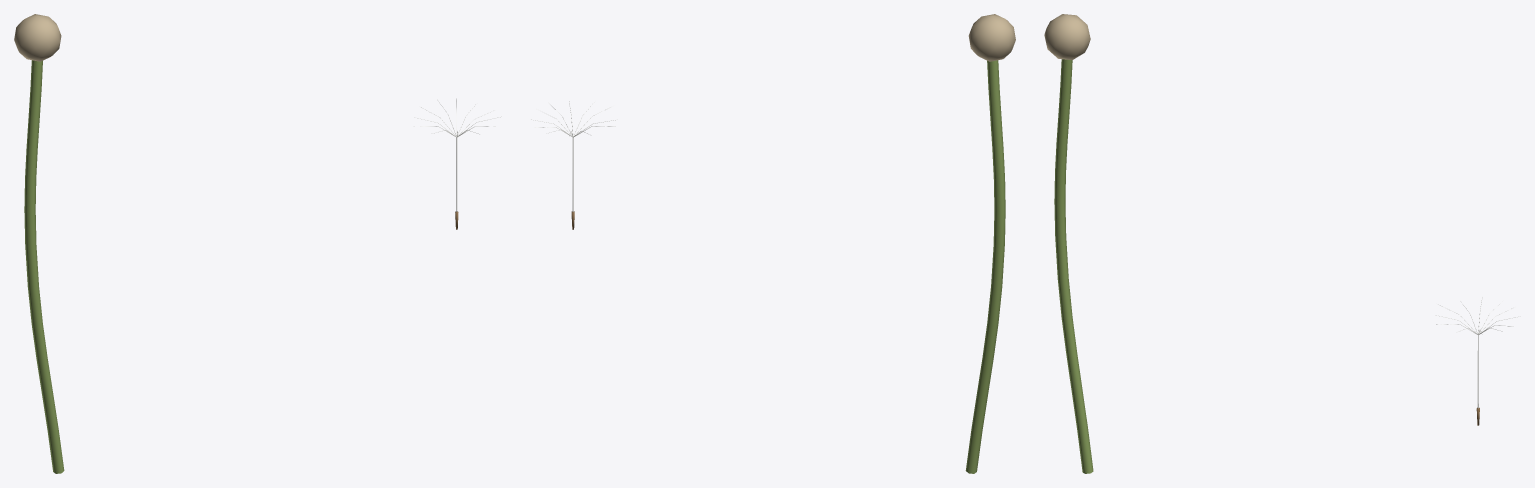
Rendered from puffball.glb.
The picture shows the model from 3 angles, left to right: view 1: azimuth 30°, elevation 25°; view 2: azimuth 150°, elevation 25°; view 3: azimuth 330°, elevation 25°; orthographic projection. The views are drawn at different scales.
Visible parts, largest first — view 1: Stem, Puffball, Seed; view 2: Stem, Puffball, Seed; view 3: Stem, Puffball, Seed.
Boxes of the visible parts, bbox=[...] form: Stem: bbox=[24, 60, 64, 473]; Puffball: bbox=[14, 14, 61, 61]; Seed: bbox=[413, 98, 501, 229]; Stem: bbox=[965, 60, 1005, 473]; Puffball: bbox=[968, 14, 1015, 61]; Seed: bbox=[530, 101, 617, 229]; Stem: bbox=[1054, 59, 1093, 473]; Puffball: bbox=[1044, 14, 1090, 59]; Seed: bbox=[1435, 296, 1520, 425].
Size of the model in its own units: 3.41 by 3.15 by 0.5751.
